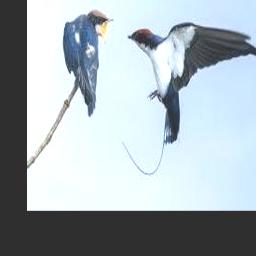Swallow: (127, 21, 256, 143), (63, 9, 113, 115)
